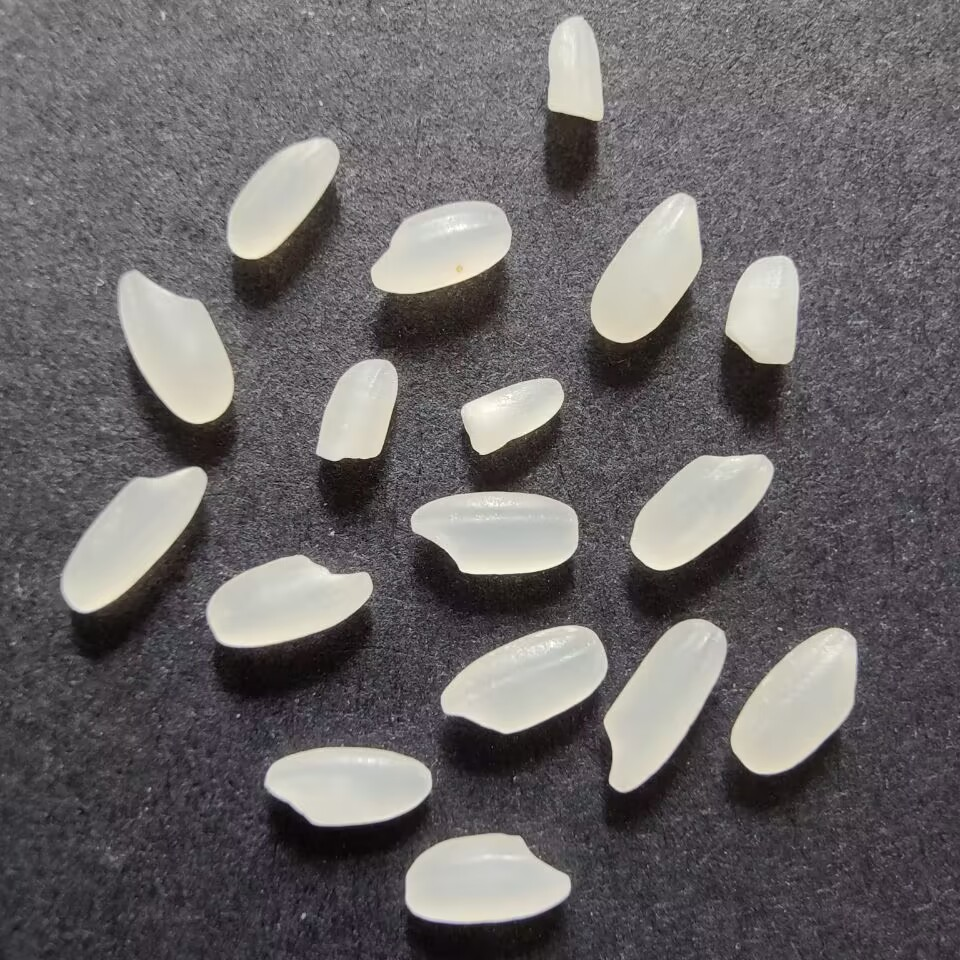broken: (717, 251, 816, 374), (310, 352, 402, 466), (458, 375, 570, 459), (544, 13, 609, 124)
rice: (52, 459, 212, 619), (598, 613, 730, 795), (725, 624, 864, 780), (113, 266, 237, 430), (623, 448, 779, 577), (437, 621, 608, 737), (199, 546, 379, 655), (397, 825, 574, 932), (586, 186, 705, 345), (403, 489, 581, 581), (218, 133, 344, 262), (361, 192, 517, 296), (259, 742, 436, 833)
